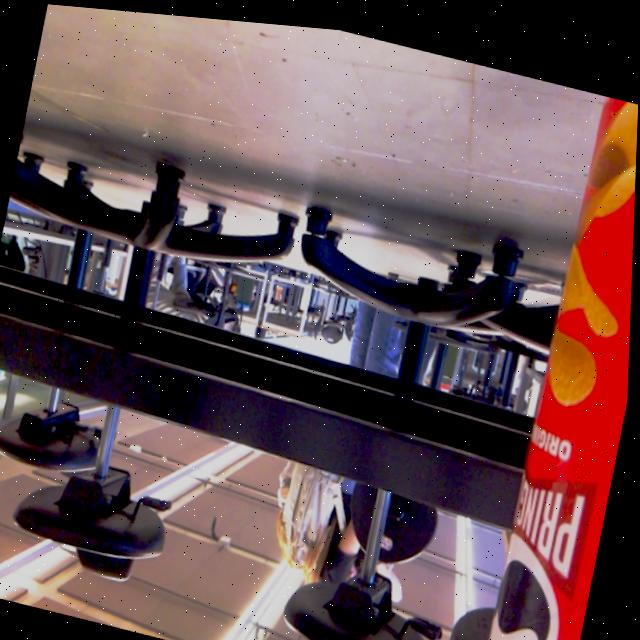redpringles: (454, 69, 639, 640)
